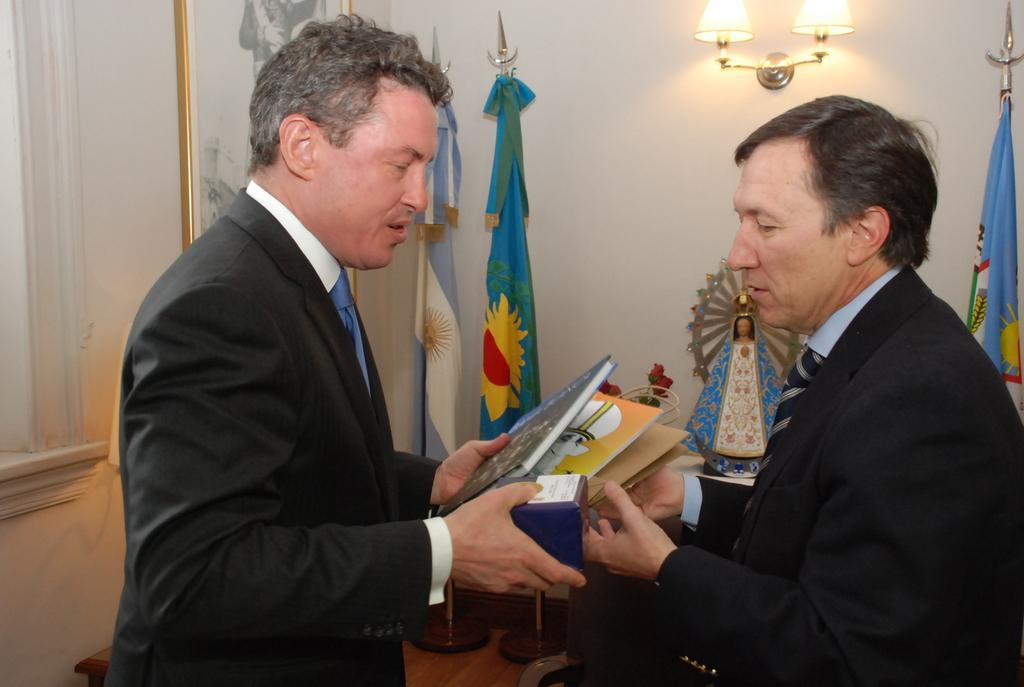Pessoa: (107, 16, 583, 686), (586, 96, 1023, 686), (683, 292, 781, 476)
